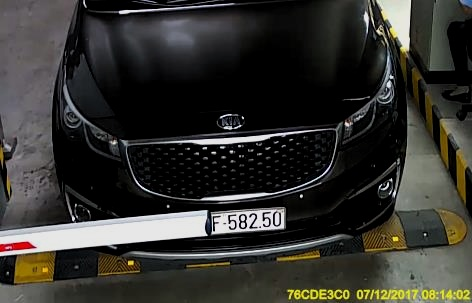plate: (209, 207, 287, 234)
